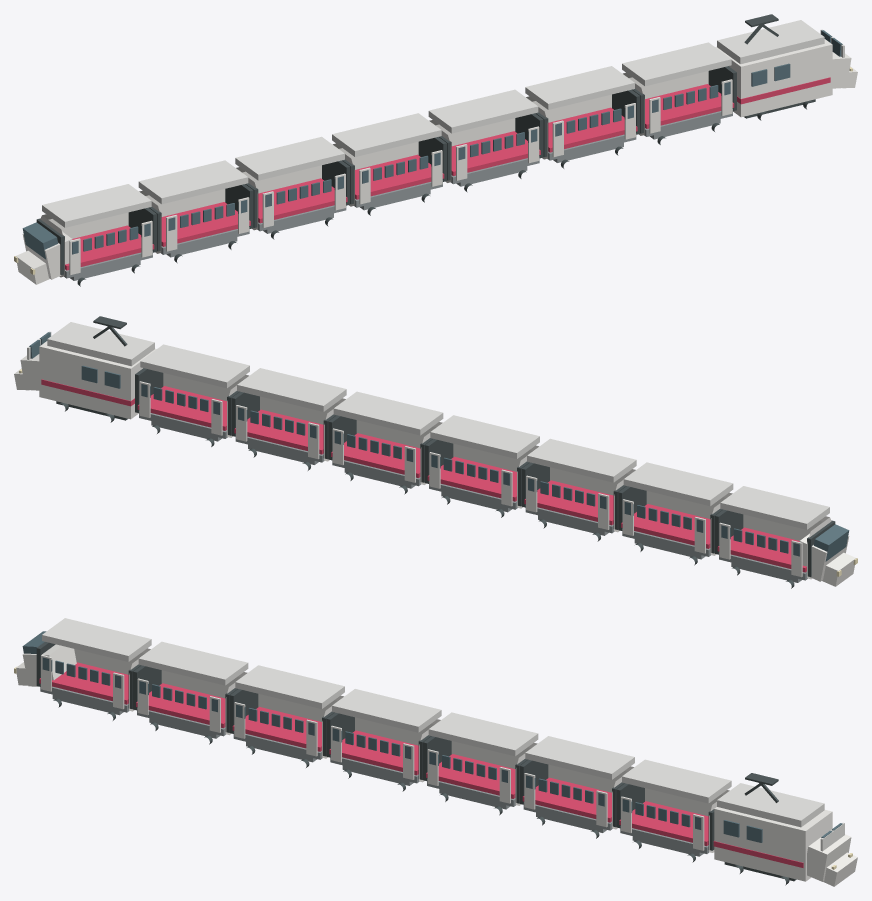
Rendered from ice2.glb.
3 views of the same model, one above another, from view 1: azimuth 30°, elevation 25°; view 2: azimuth 150°, elevation 25°; view 3: azimuth 330°, elevation 25° (orthographic).
Parts seen in each view (by area): view 1: body_shell, ice2_car_3_roof, ice2_car_6_roof, ice2_car_5_roof, ice2_car_1_roof, ice2_car_2_roof, ice2_car_4_roof, ice2_car_7_roof, roof, ice2_car_1_identity_stripe, ice2_car_4_identity_stripe, ice2_car_3_identity_stripe (+30 smaller); view 2: body_shell, ice2_car_3_roof, ice2_car_6_roof, ice2_car_5_roof, ice2_car_1_roof, ice2_car_2_roof, ice2_car_4_roof, ice2_car_7_roof, roof, ice2_car_1_identity_stripe, ice2_car_4_identity_stripe, ice2_car_3_identity_stripe (+30 smaller); view 3: body_shell, ice2_car_3_roof, ice2_car_6_roof, ice2_car_1_roof, ice2_car_2_roof, ice2_car_5_roof, ice2_car_7_roof, ice2_car_4_roof, roof, ice2_car_6_identity_stripe, ice2_car_2_identity_stripe, ice2_car_3_identity_stripe (+28 smaller).
Boxes of the visible parts, x1,y1,x2,y2 form: body_shell: [715, 39, 832, 117]; ice2_car_3_roof: [428, 89, 538, 133]; ice2_car_6_roof: [138, 160, 248, 204]; ice2_car_5_roof: [235, 136, 344, 180]; ice2_car_1_roof: [622, 42, 731, 86]; ice2_car_2_roof: [525, 66, 634, 109]; ice2_car_4_roof: [332, 113, 441, 156]; ice2_car_7_roof: [42, 184, 151, 227]; roof: [717, 20, 824, 64]; ice2_car_1_identity_stripe: [645, 84, 734, 128]; ice2_car_4_identity_stripe: [355, 154, 444, 199]; ice2_car_3_identity_stripe: [451, 131, 540, 175]; body_shell: [39, 341, 156, 419]; ice2_car_3_roof: [333, 391, 443, 435]; ice2_car_6_roof: [623, 462, 733, 506]; ice2_car_5_roof: [527, 438, 636, 482]; ice2_car_1_roof: [140, 344, 249, 388]; ice2_car_2_roof: [237, 368, 346, 411]; ice2_car_4_roof: [430, 415, 539, 458]; ice2_car_7_roof: [720, 486, 829, 529]; roof: [47, 322, 154, 366]; ice2_car_1_identity_stripe: [137, 386, 226, 430]; ice2_car_4_identity_stripe: [427, 456, 516, 501]; ice2_car_3_identity_stripe: [331, 433, 420, 477]; body_shell: [714, 807, 832, 881]; ice2_car_3_roof: [428, 712, 538, 756]; ice2_car_6_roof: [138, 641, 248, 685]; ice2_car_1_roof: [622, 759, 731, 803]; ice2_car_2_roof: [525, 736, 634, 779]; ice2_car_5_roof: [235, 665, 344, 709]; ice2_car_7_roof: [42, 618, 151, 661]; ice2_car_4_roof: [332, 689, 441, 732]; roof: [717, 783, 824, 827]; ice2_car_6_identity_stripe: [136, 683, 225, 728]; ice2_car_2_identity_stripe: [522, 777, 611, 822]; ice2_car_3_identity_stripe: [426, 754, 515, 798].
Bounding box in the file's own units: 12.79 × 1.32 × 0.791.
